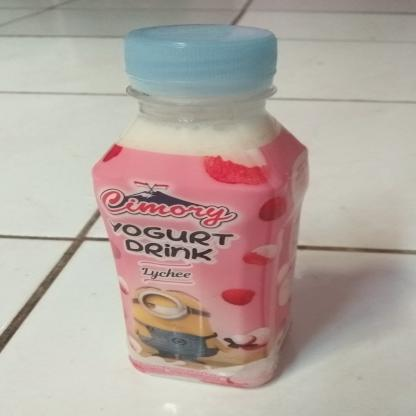plastic: (86, 20, 313, 392)
